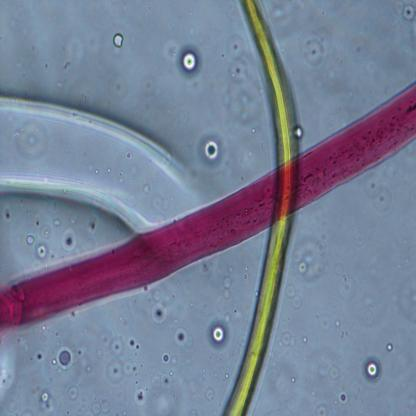Background material: (0, 92, 180, 217), (222, 36, 264, 124), (291, 235, 327, 282), (145, 377, 183, 416), (362, 169, 396, 211), (298, 28, 328, 68), (310, 343, 338, 381), (177, 42, 203, 76), (202, 317, 229, 349), (359, 349, 382, 384), (108, 358, 134, 384), (104, 329, 127, 358), (198, 136, 223, 160), (149, 290, 165, 325), (388, 0, 416, 20), (53, 344, 74, 370), (278, 322, 297, 349), (218, 275, 234, 300), (90, 396, 110, 416), (176, 326, 194, 347), (62, 228, 76, 250), (125, 334, 142, 352), (64, 384, 80, 402), (288, 283, 300, 307), (40, 392, 52, 414), (313, 400, 329, 416), (31, 246, 49, 260), (60, 52, 72, 72), (36, 219, 49, 237), (2, 203, 15, 220), (336, 388, 348, 406), (112, 31, 126, 46), (86, 216, 99, 232), (135, 388, 147, 405), (24, 232, 38, 246), (204, 387, 215, 401), (34, 350, 44, 362), (162, 351, 171, 362), (385, 342, 394, 352), (86, 362, 92, 374), (96, 352, 104, 360)
Microfibre: (0, 82, 416, 334), (224, 0, 300, 416)
